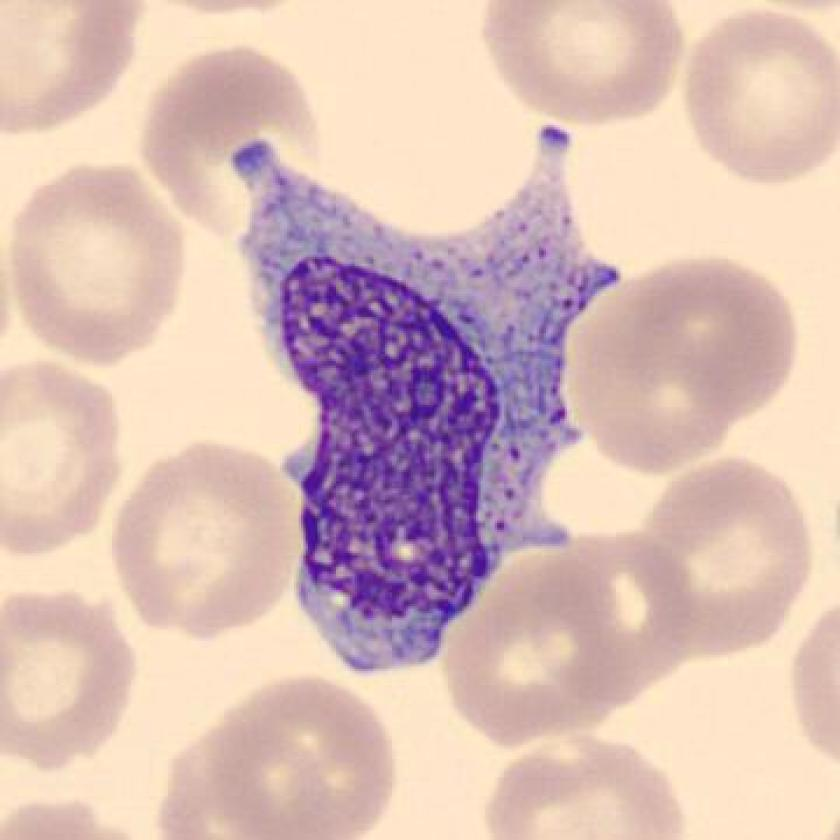monocyte: (211, 100, 640, 700)
